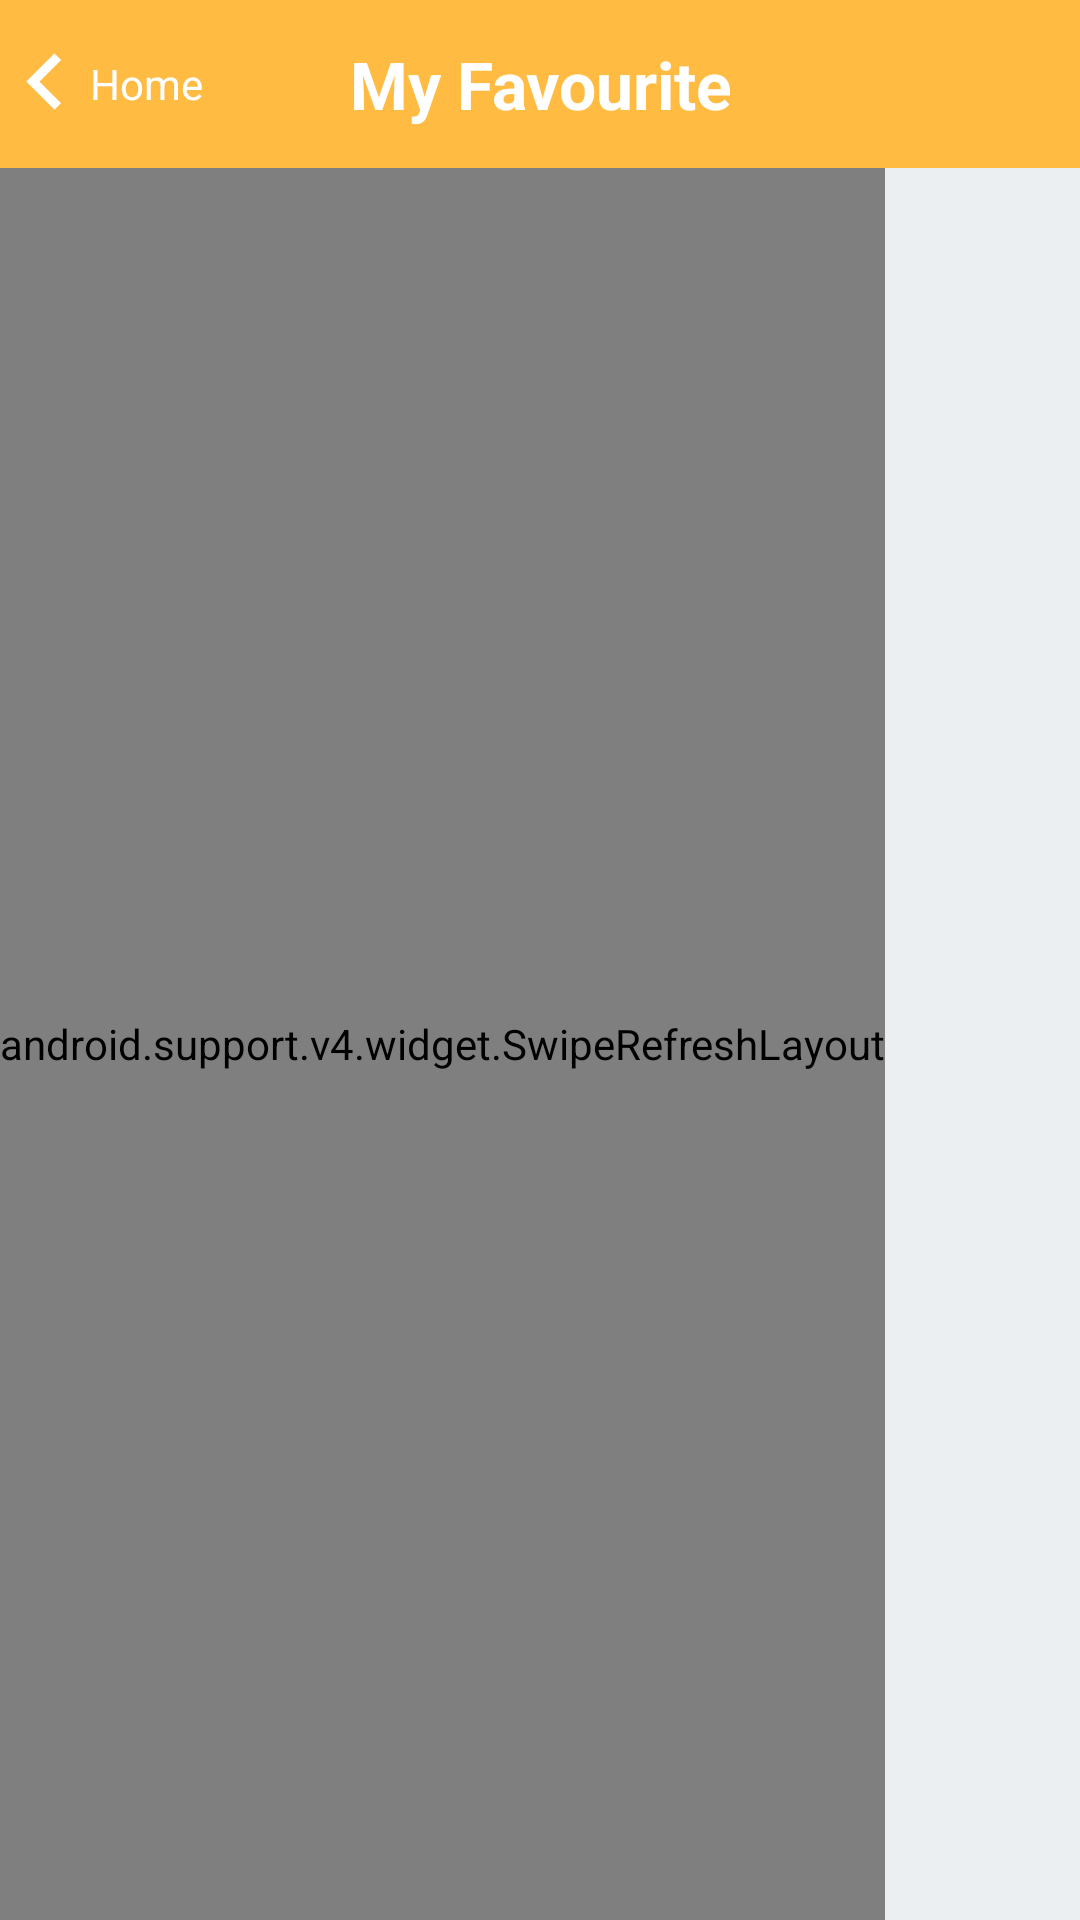

Named icons in this screenshot (1080 x 1920) and their bounding boxes, rect(x1, y1, x2, y2):
back: rect(26, 53, 61, 110)
